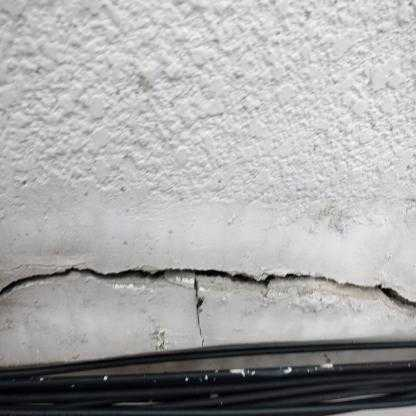crack: (0, 268, 415, 307), (194, 276, 204, 346)
